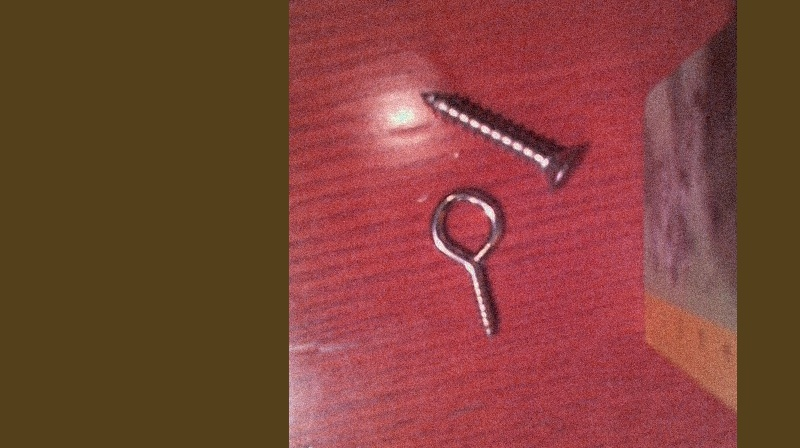O001: (426, 182, 506, 341)
S001: (418, 84, 589, 195)
